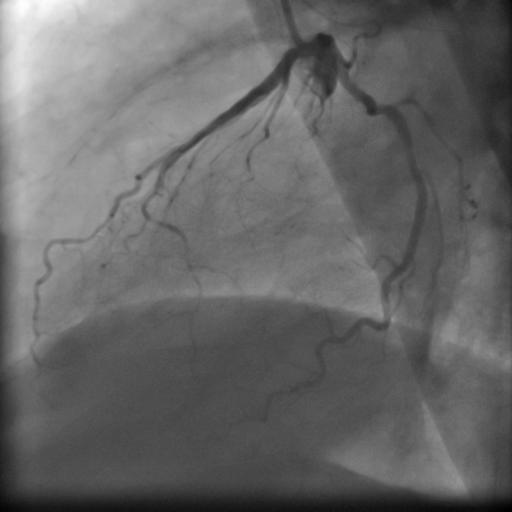Stenosis: (368, 89, 391, 123)
